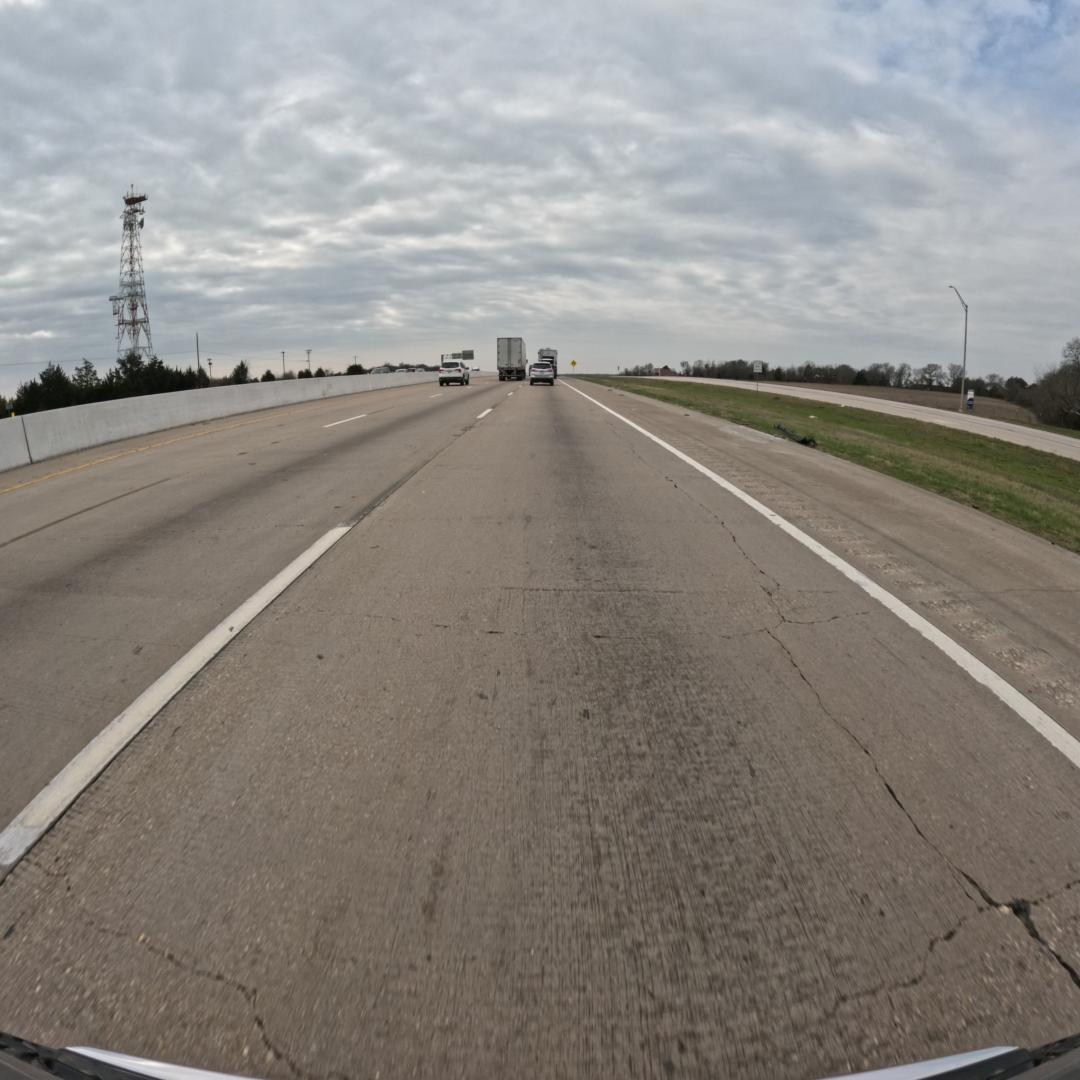lane0: (0, 383, 1080, 1076)
lane1: (0, 381, 523, 881)
